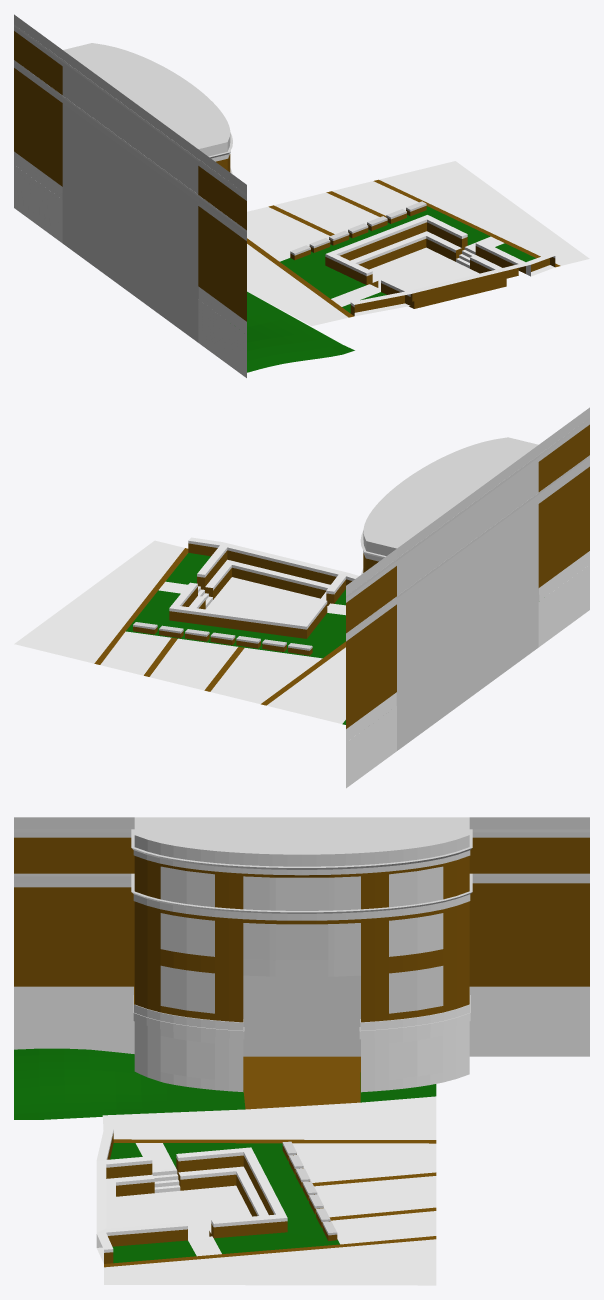
File: cech entrance.fbx
3 renders of one model, top to bottom at view 1: azimuth 30°, elevation 25°; view 2: azimuth 150°, elevation 25°; view 3: azimuth 270°, elevation 25°, orthographic. The views are drawn at different scales.
Visible parts, largest first — view 1: building-no-windows, general grounds, concrete benches; view 2: building-no-windows, general grounds, concrete benches; view 3: building-no-windows, general grounds, concrete benches.
Part boxes in pixels (x1,y1,x2,y2): building-no-windows: [14, 14, 246, 377]; general grounds: [247, 161, 589, 372]; concrete benches: [290, 201, 426, 260]; building-no-windows: [346, 407, 589, 788]; general grounds: [14, 537, 358, 724]; concrete benches: [133, 622, 312, 655]; building-no-windows: [14, 817, 589, 1092]; general grounds: [14, 1048, 436, 1285]; concrete benches: [282, 1141, 337, 1240].
Bounding box in the file's own units: 1778 × 1671 × 864.
